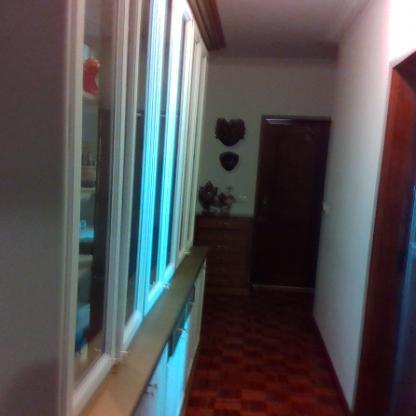door: (266, 121, 322, 286)
